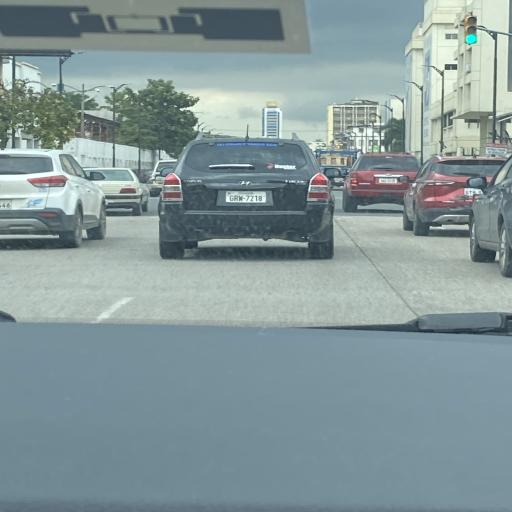license_plate: (226, 191, 266, 203), (464, 188, 482, 196), (0, 199, 12, 209), (379, 178, 397, 183), (335, 178, 343, 182)
